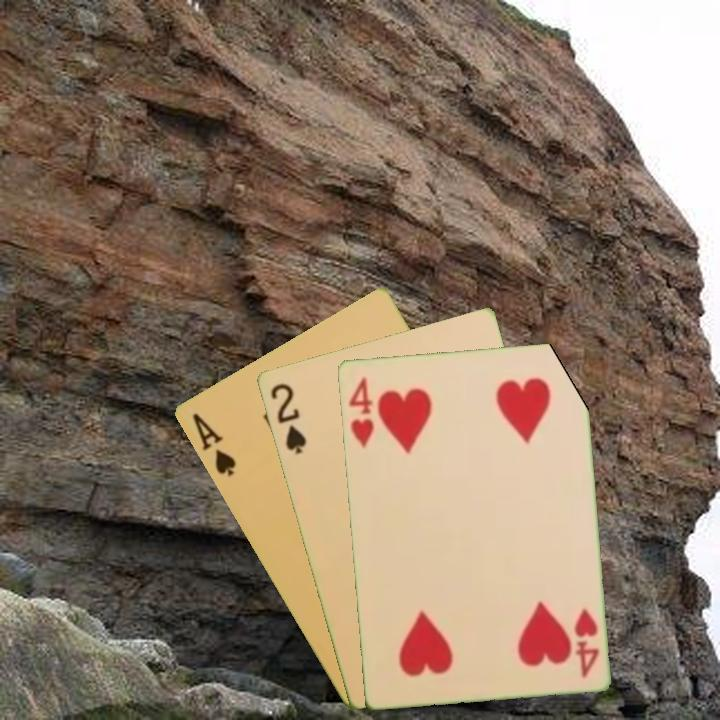2s: (266, 379, 309, 457)
4h: (344, 373, 377, 450), (570, 605, 602, 680)
As: (188, 409, 239, 480)
